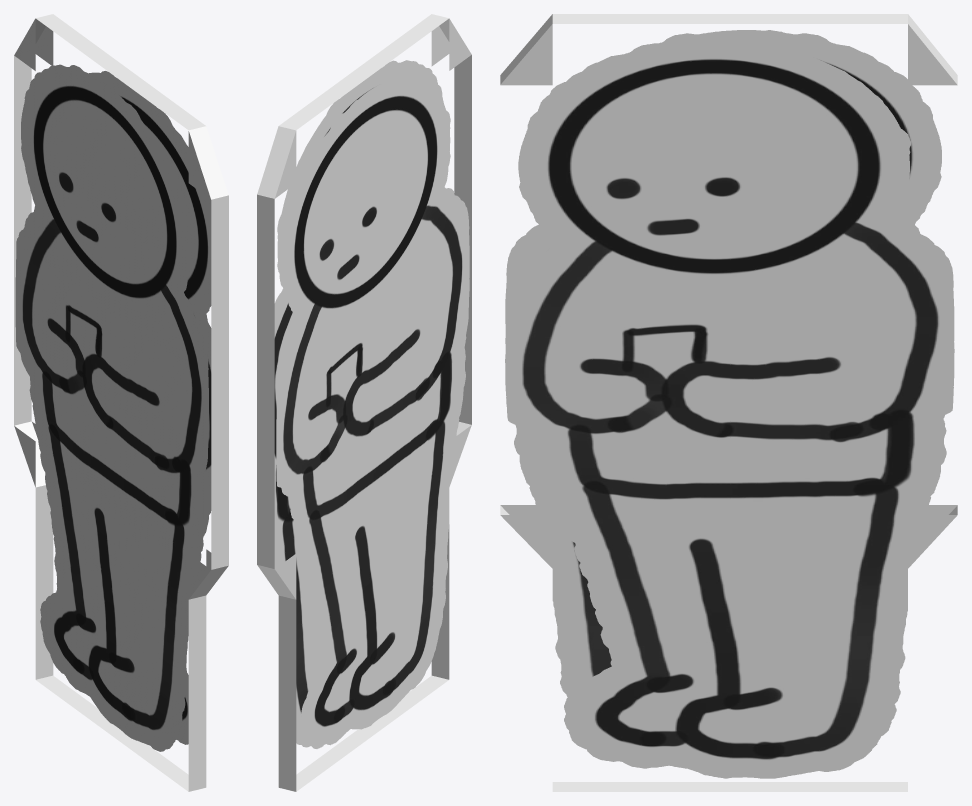
Rendered from PedestrianMale.fbx.
The picture shows the model from 3 angles, left to right: view 1: azimuth 30°, elevation 25°; view 2: azimuth 150°, elevation 25°; view 3: azimuth 270°, elevation 25°; orthographic projection. The views are drawn at different scales.
Parts seen in each view (by area): view 1: Box001; view 2: Box001; view 3: Box001.
Boxes of the visible parts, box(x1,y1,x2,y2) form: Box001: box(14, 14, 228, 791); Box001: box(257, 14, 471, 791); Box001: box(500, 14, 957, 791).
Bounding box in the file's own units: 5 × 179 × 96.52.
